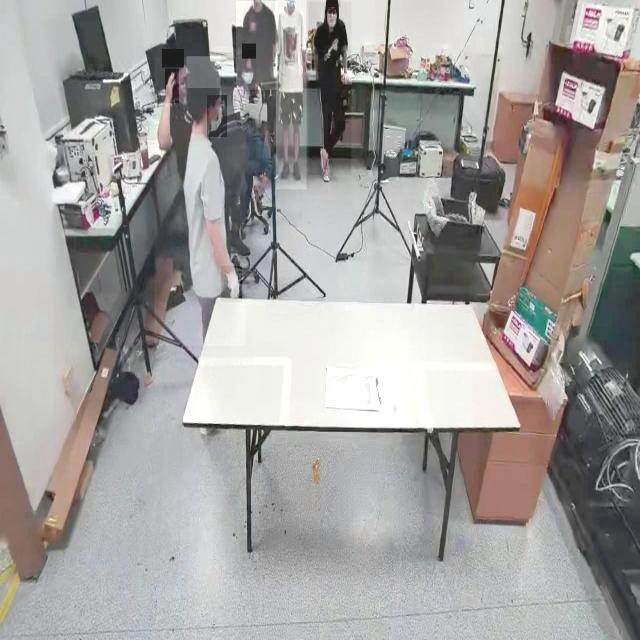face_mask: (207, 95, 227, 137), (326, 0, 338, 24)
hand_glove: (220, 266, 242, 303)
hand_noglove: (165, 68, 179, 104), (342, 68, 352, 86), (303, 64, 309, 81)
head_nohelmet: (186, 56, 220, 89), (162, 49, 184, 68), (242, 44, 256, 60), (326, 0, 340, 8)
person: (154, 57, 246, 347), (308, 2, 352, 176), (276, 0, 306, 190), (236, 1, 278, 91)
shoes: (319, 145, 331, 174), (279, 156, 291, 182), (292, 158, 304, 182)
